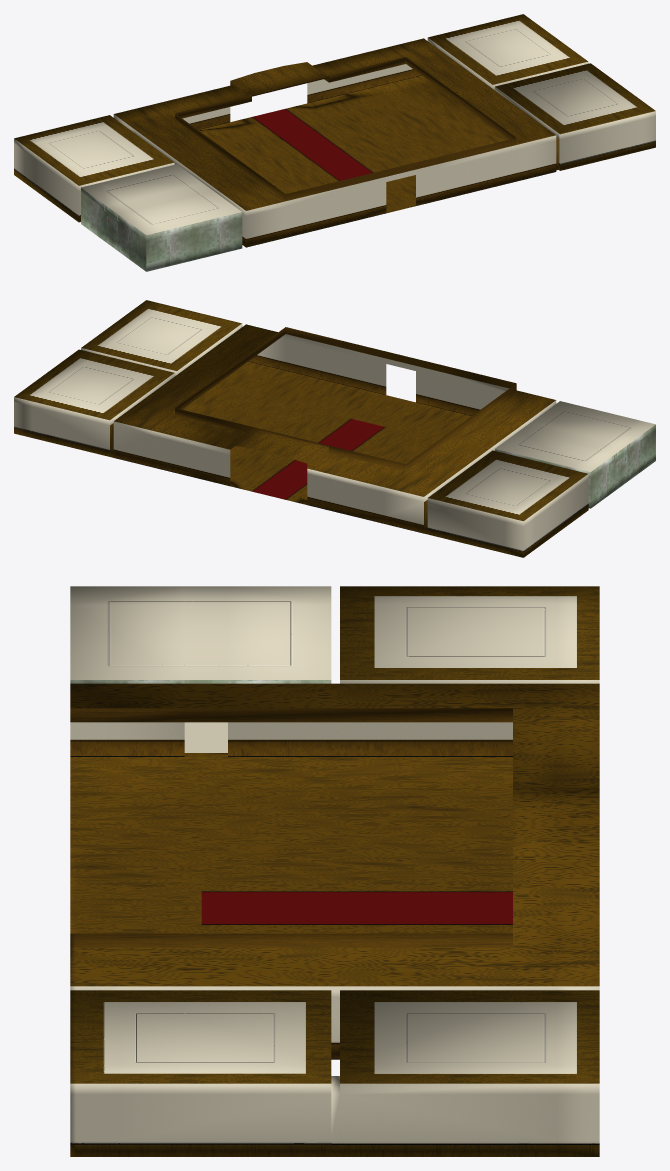
File: first_floor.fbx
The picture shows the model from 3 angles, top to bottom: view 1: azimuth 30°, elevation 25°; view 2: azimuth 150°, elevation 25°; view 3: azimuth 270°, elevation 25°; orthographic projection. The views are drawn at different scales.
Parts seen in each view (by area): view 1: obj1; view 2: obj1; view 3: obj1.
Boxes of the visible parts, bbox=[...] form: obj1: bbox=[14, 14, 655, 271]; obj1: bbox=[14, 300, 655, 557]; obj1: bbox=[70, 586, 599, 1156].
Bounding box in the file's own units: 3419 × 280 × 1538.
Materials: 3 (3 with a texture image).
